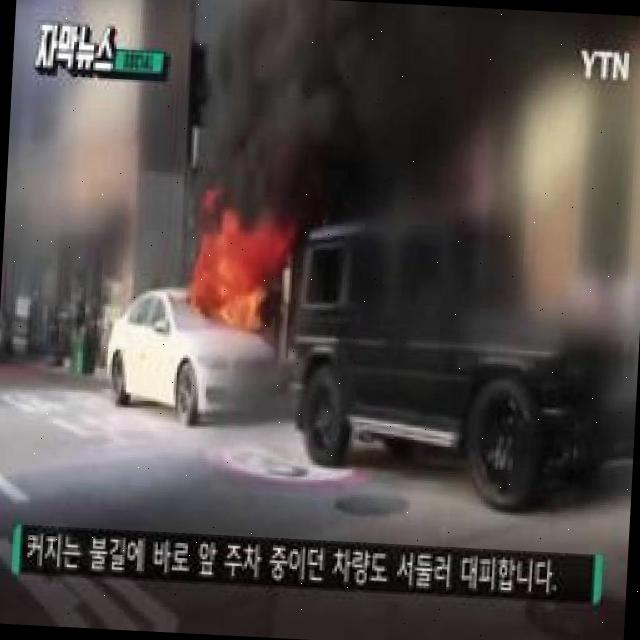fire: (192, 232, 274, 330)
